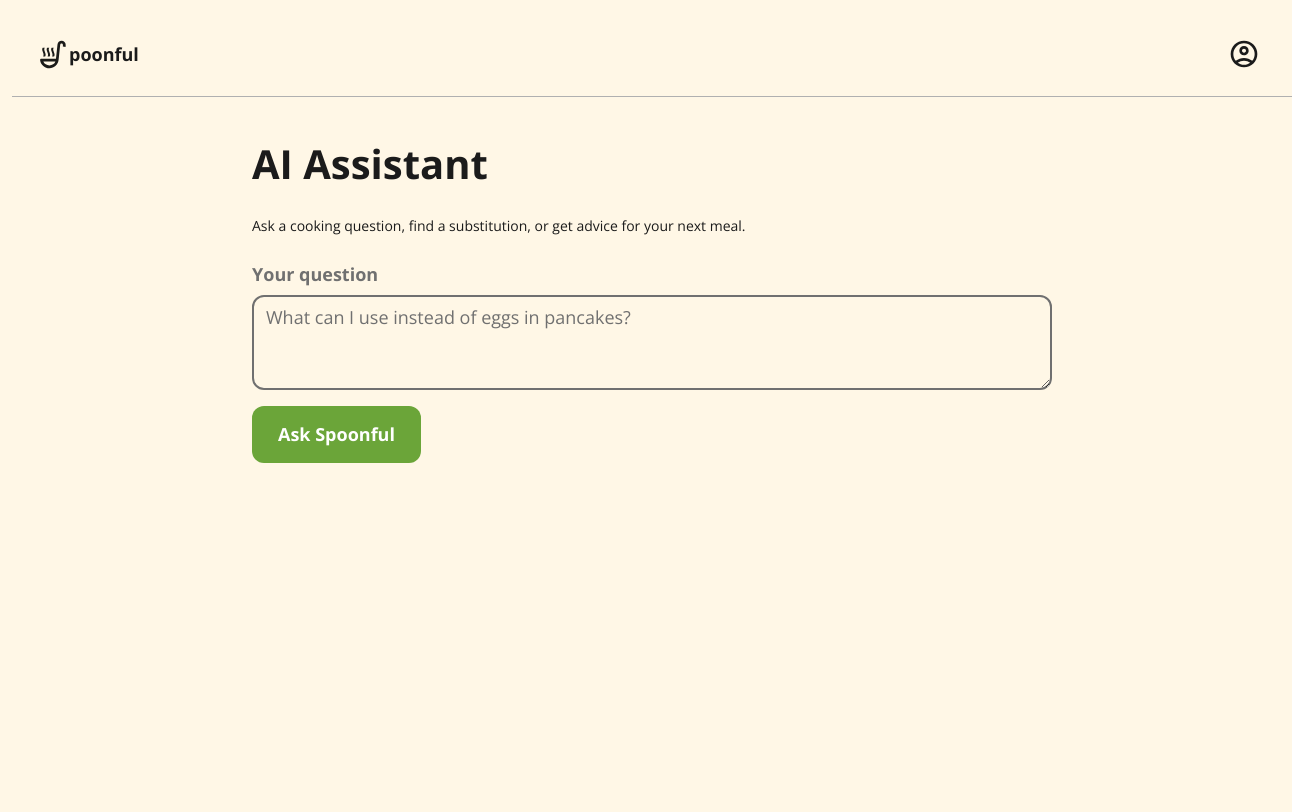
Test: stops an in-flight response without adding it to history
This screenshot has width=1292, height=812.
Type "Help" into the text box labelled "Your question" at (652, 342), box [252,295,1052,390]
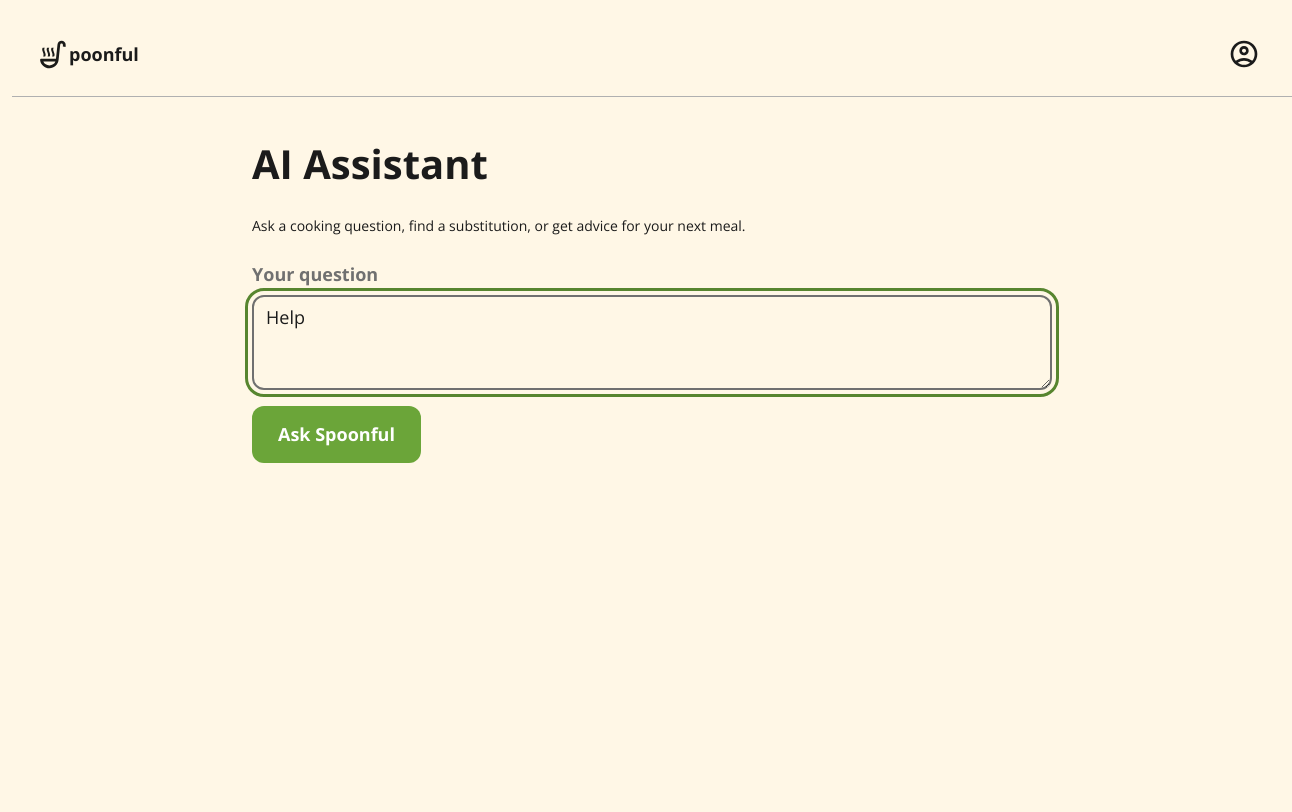
Click the button "Ask Spoonful" at (336, 434), box [252,406,421,463]
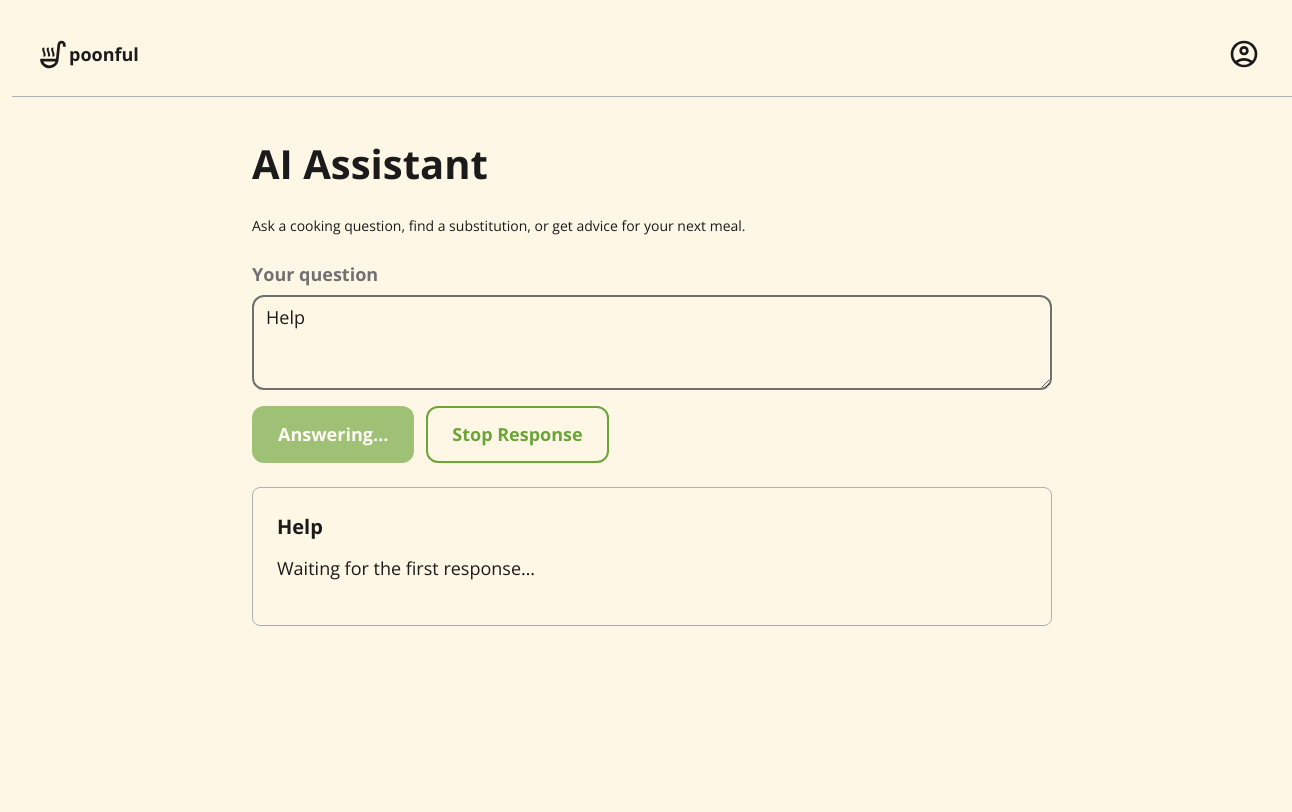
Click the button "Stop Response" at (518, 434), box [426,406,609,463]
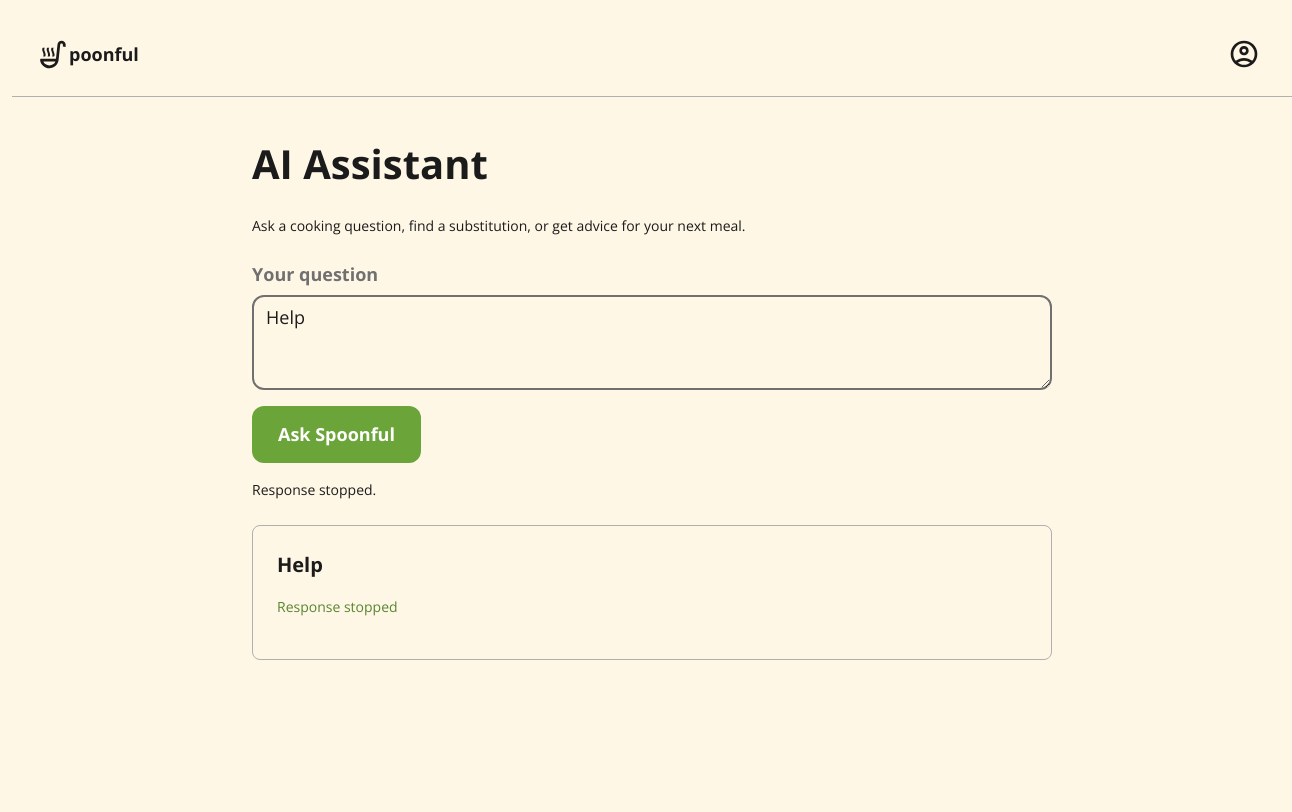
Now the button "Ask Spoonful" is enabled, box [252,406,421,463]
